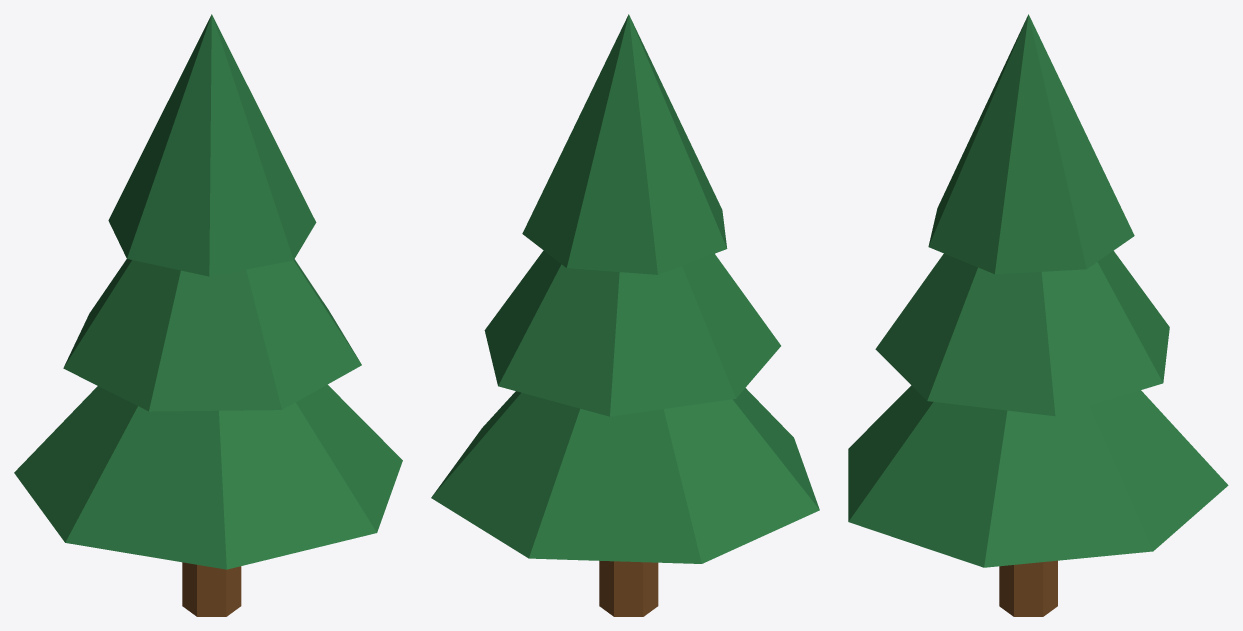
The model's file is pine.glb.
The picture shows the model from 3 angles, left to right: view 1: azimuth 30°, elevation 25°; view 2: azimuth 150°, elevation 25°; view 3: azimuth 270°, elevation 25°; orthographic projection.
Parts seen in each view (by area): view 1: Pine; view 2: Pine; view 3: Pine.
Boxes of the visible parts, x1,y1,x2,y2 form: Pine: (14, 14, 402, 616); Pine: (431, 14, 819, 616); Pine: (848, 14, 1228, 616).
Bounding box in the file's own units: 2.92 × 4.9 × 2.85.
